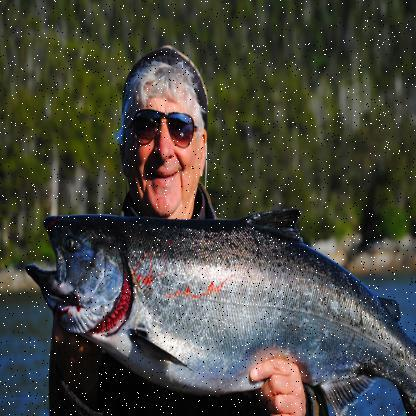fish: (24, 211, 415, 414)
